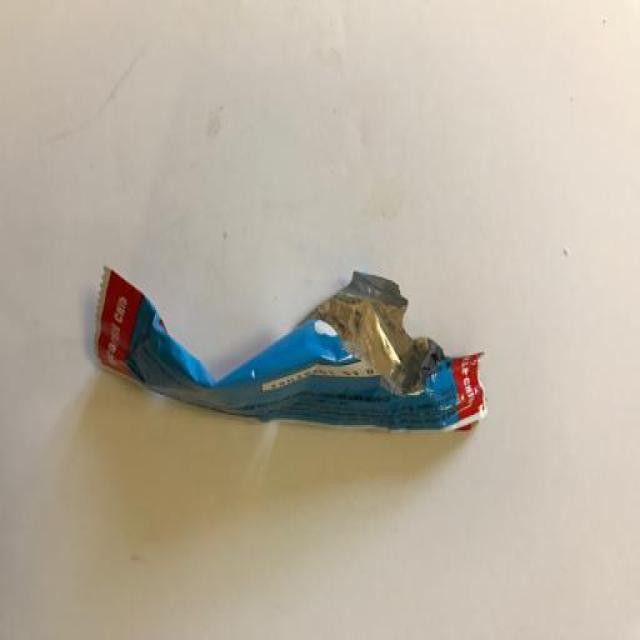Random Trash: (92, 268, 488, 435)
